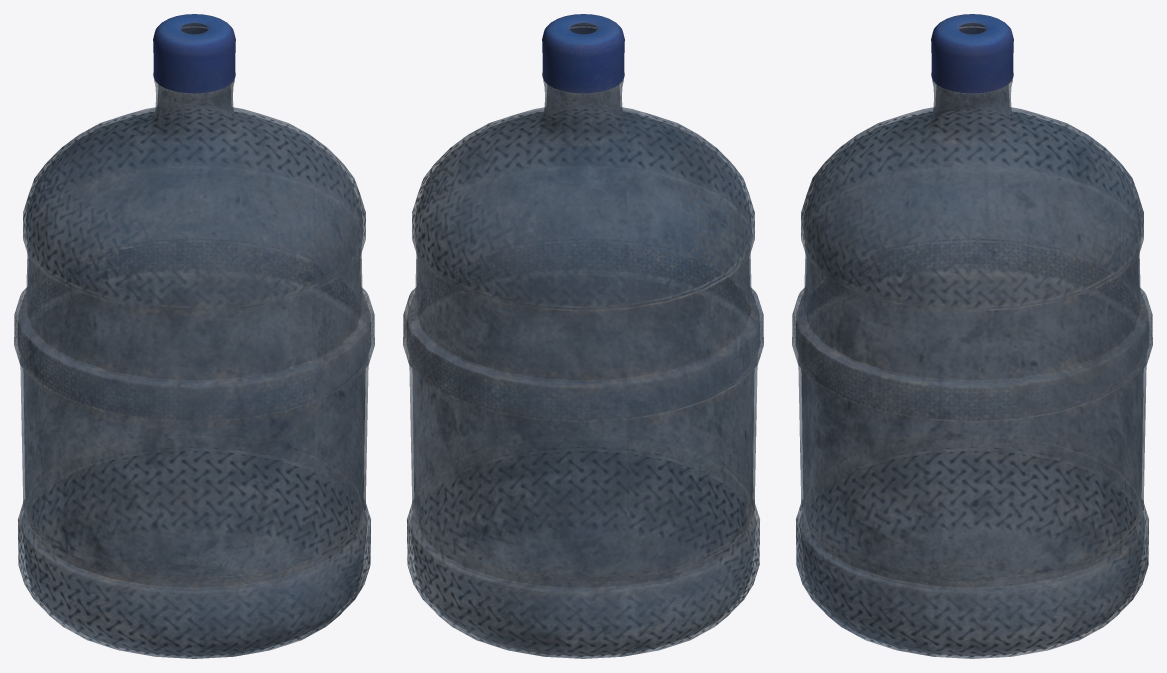
The model's file is water_bottle.glb.
3 renders of one model, left to right at view 1: azimuth 30°, elevation 25°; view 2: azimuth 150°, elevation 25°; view 3: azimuth 270°, elevation 25°, orthographic.
Parts seen in each view (by area): view 1: bottle_lp; view 2: bottle_lp; view 3: bottle_lp.
Part boxes in pixels (left/top/right/bottom): bottle_lp: left=14, top=14, right=374, bottom=658; bottle_lp: left=403, top=14, right=763, bottom=658; bottle_lp: left=792, top=14, right=1152, bottom=658.
Size of the model in its own units: 0.9766 by 1.73 by 0.9766.
1 material, 1 textured.
